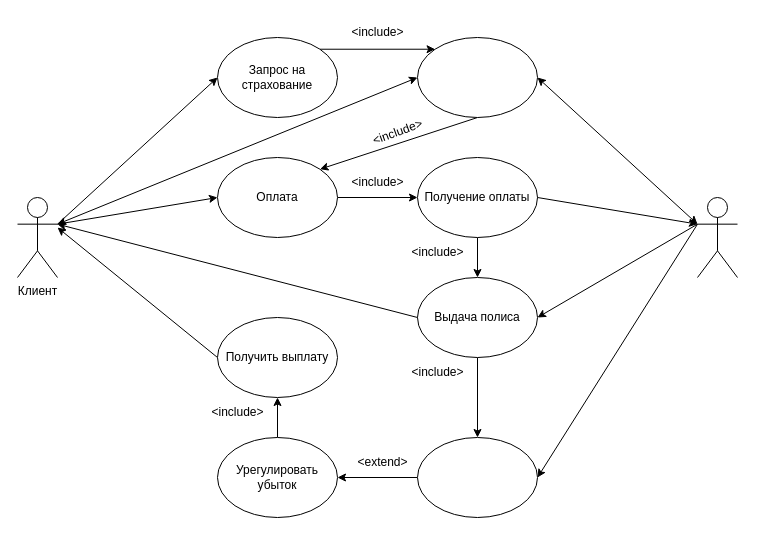
Some shapes in this 764 by 535 pixel diagram are drawn without their labels. Each missing label, with the centre of its shape:
"Менеджер" goes at [717,237].
"Обсуживание в течении срока" goes at [477,477].
"Расчёт и оформление" goes at [477,77].
